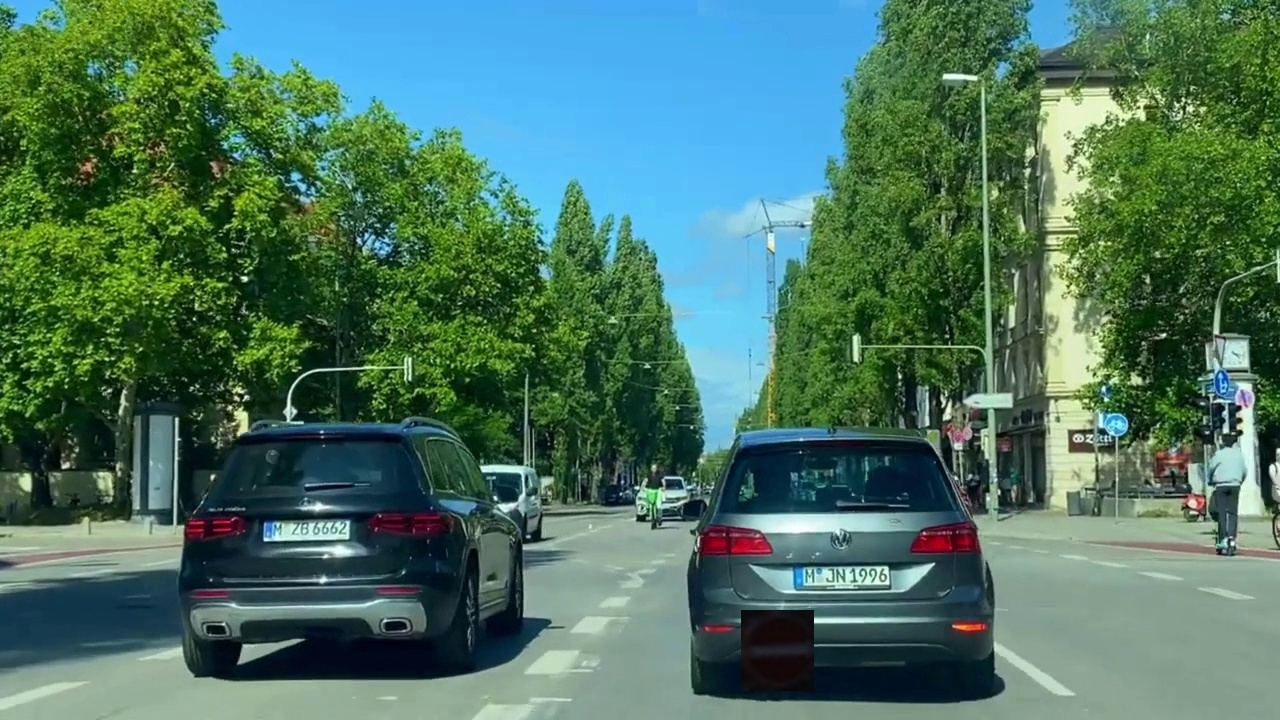No entry: (741, 610, 814, 691)
